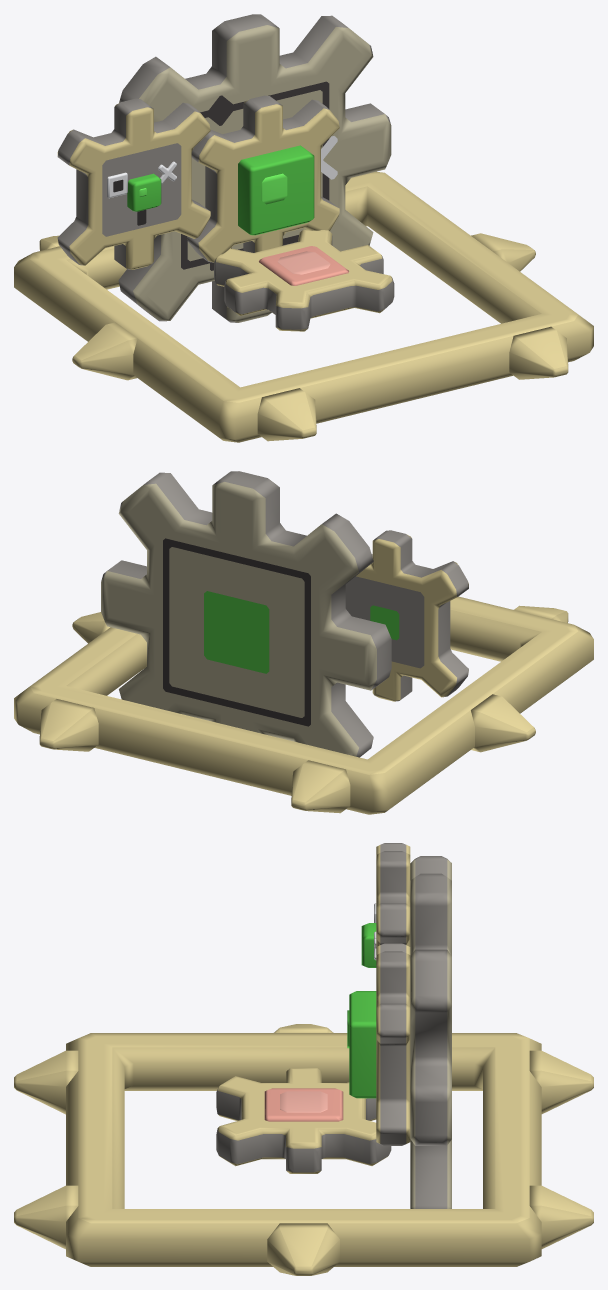
File: model_shiny.obj
The picture shows the model from 3 angles, top to bottom: view 1: azimuth 30°, elevation 25°; view 2: azimuth 150°, elevation 25°; view 3: azimuth 270°, elevation 25°; orthographic projection. The views are drawn at different scales.
Parts seen in each view (by area): view 1: 0601_klinklang_shiny; view 2: 0601_klinklang_shiny; view 3: 0601_klinklang_shiny.
Boxes of the visible parts, x1=… form: 0601_klinklang_shiny: x1=14, y1=14, x2=593, y2=442; 0601_klinklang_shiny: x1=14, y1=471, x2=593, y2=814; 0601_klinklang_shiny: x1=14, y1=843, x2=593, y2=1275.
Size of the model in its own units: 4.44 by 2.7 by 4.44.
Materials: 1 (1 with a texture image).
